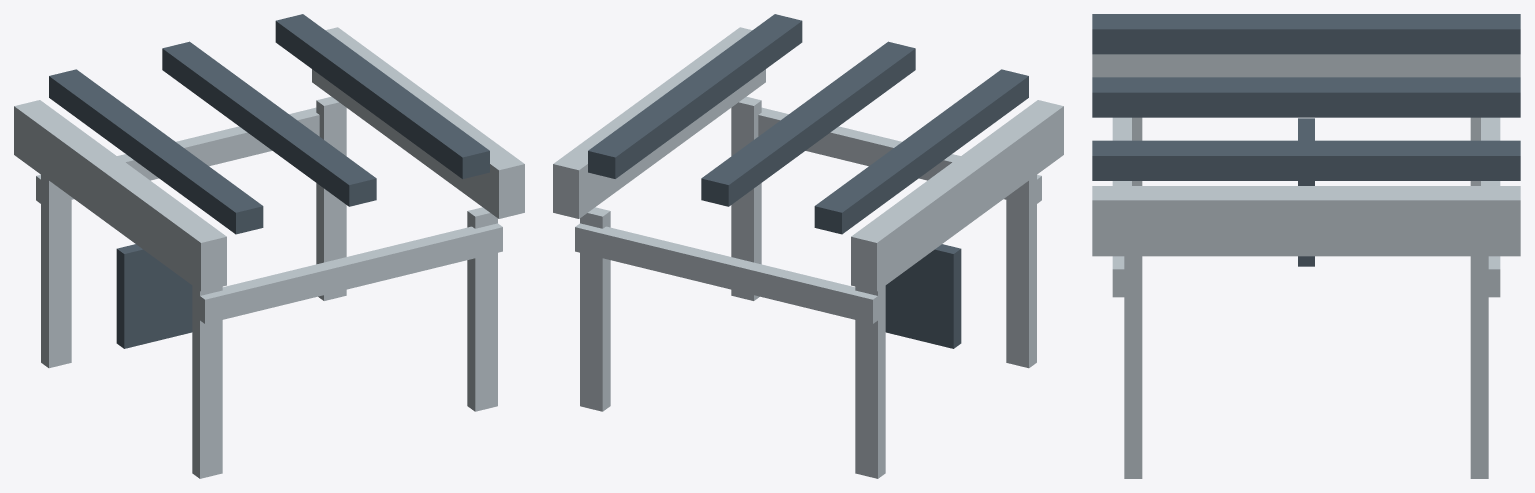
The model's file is continuous-chain.glb.
The picture shows the model from 3 angles, left to right: view 1: azimuth 30°, elevation 25°; view 2: azimuth 150°, elevation 25°; view 3: azimuth 270°, elevation 25°; orthographic projection. The views are drawn at different scales.
Parts seen in each view (by area): view 1: frame_0, surface_2, frame_1; view 2: frame_0, surface_2, frame_1; view 3: surface_2, frame_0, frame_1.
Part boxes in pixels (left/top/right/bottom): frame_0: left=14, top=27, right=524, bottom=478; surface_2: left=49, top=14, right=489, bottom=234; frame_1: left=116, top=244, right=192, bottom=348; frame_0: left=553, top=27, right=1063, bottom=478; surface_2: left=588, top=14, right=1028, bottom=234; frame_1: left=885, top=244, right=961, bottom=348; surface_2: left=1092, top=14, right=1520, bottom=180; frame_0: left=1092, top=54, right=1520, bottom=478; frame_1: left=1298, top=118, right=1314, bottom=266.
Bounding box in the file's own units: 1 × 0.8 × 1.
